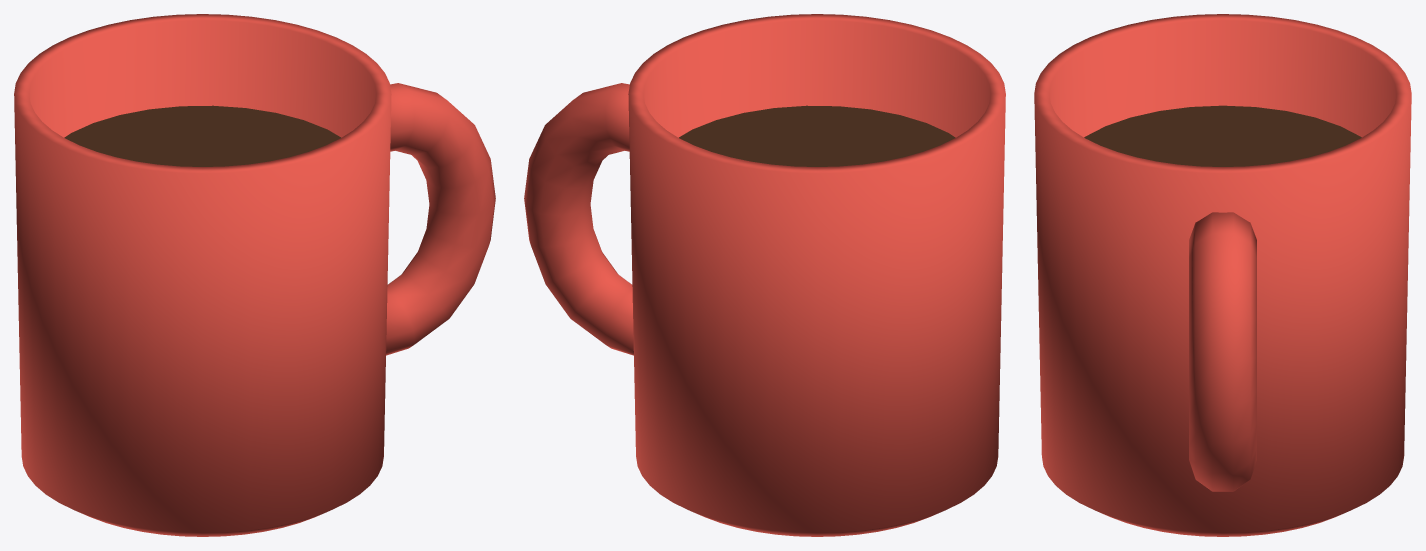
File: props-mug.glb
The picture shows the model from 3 angles, left to right: view 1: azimuth 30°, elevation 25°; view 2: azimuth 150°, elevation 25°; view 3: azimuth 270°, elevation 25°; orthographic projection.
Parts seen in each view (by area): view 1: Mug__Cup, Mug__Coffee; view 2: Mug__Cup, Mug__Coffee; view 3: Mug__Cup, Mug__Coffee.
Boxes of the visible parts, box(x1,y1,x2,y2) form: Mug__Cup: box(14, 14, 495, 536); Mug__Coffee: box(64, 105, 340, 166); Mug__Cup: box(524, 14, 1005, 536); Mug__Coffee: box(679, 105, 955, 166); Mug__Cup: box(1034, 14, 1411, 536); Mug__Coffee: box(1084, 105, 1361, 166).
Size of the model in its own units: 13.81 by 11 by 10.
